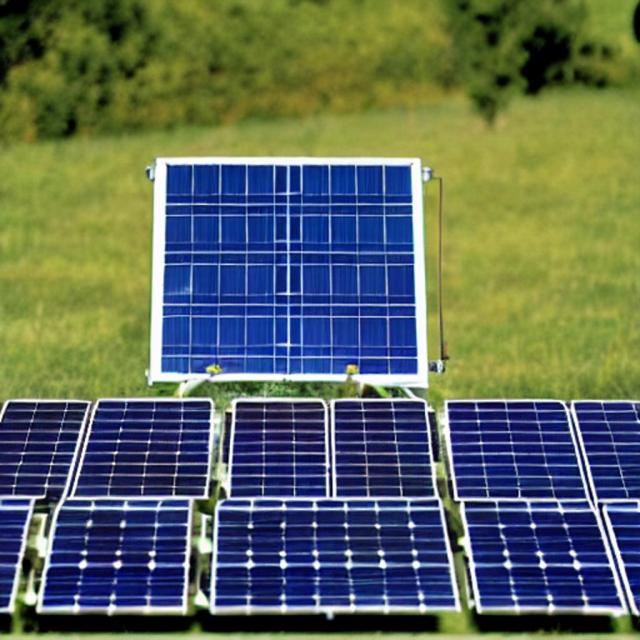no faulty: (170, 161, 416, 377), (220, 498, 452, 612), (466, 498, 614, 619), (39, 500, 189, 614), (448, 395, 583, 503), (92, 402, 219, 498), (338, 392, 439, 498), (233, 397, 333, 492), (5, 397, 84, 495), (580, 394, 639, 500)
